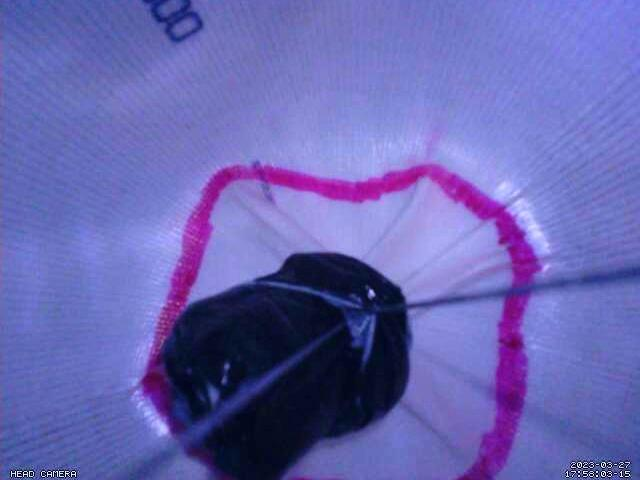red-circle: (140, 163, 542, 480)
